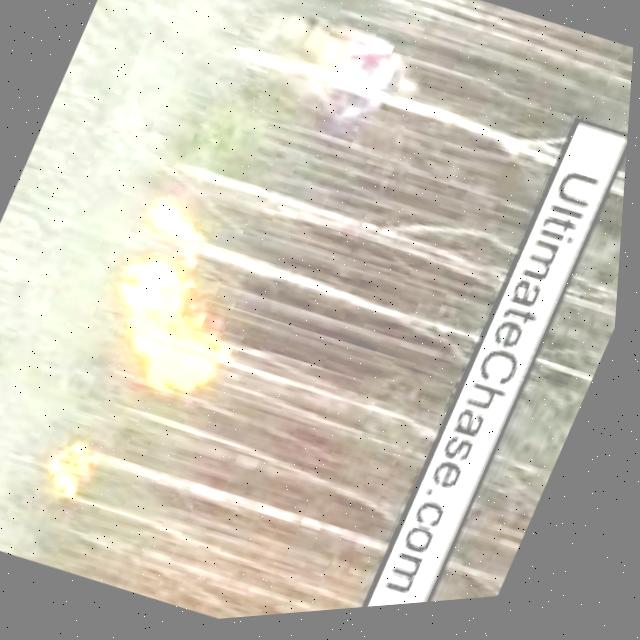Fire: (87, 249, 266, 423), (36, 431, 121, 515), (137, 195, 218, 257)
